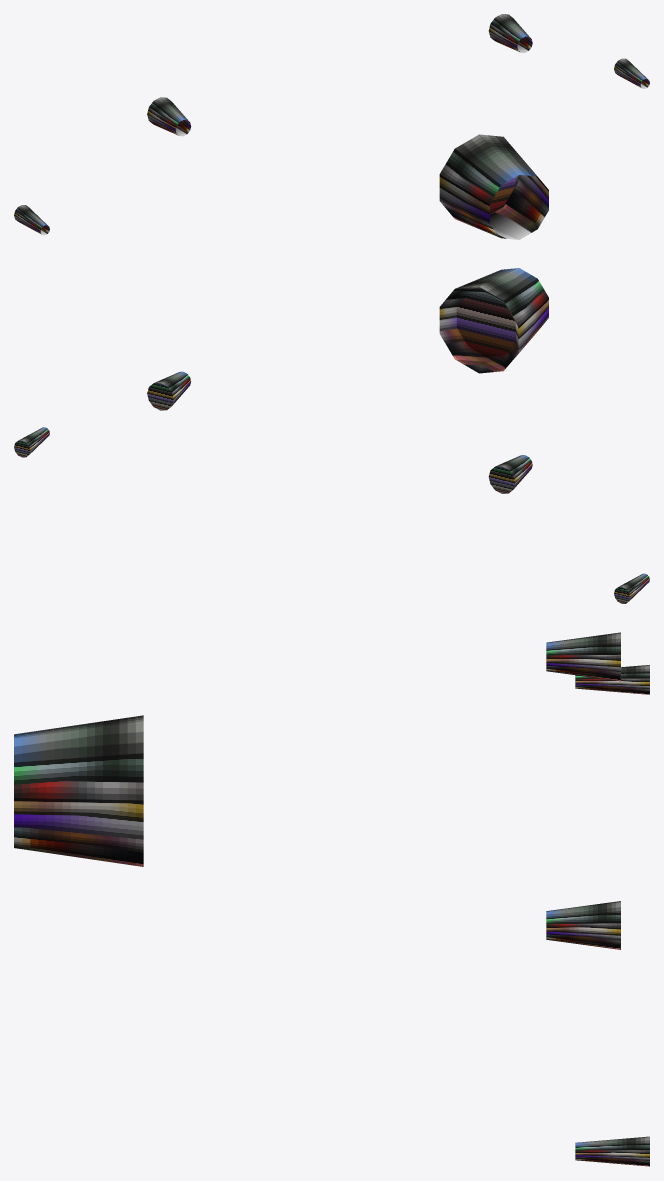
The model's file is Bomber Exhaust.fbx.
3 views of the same model, one above another, from view 1: azimuth 30°, elevation 25°; view 2: azimuth 150°, elevation 25°; view 3: azimuth 270°, elevation 25° (orthographic). The views are drawn at different scales.
Parts seen in each view (by area): view 1: Bomber Rear Exhaust, Bomber Wing Exhaust L, Bomber Wing Exhaust R; view 2: Bomber Rear Exhaust, Bomber Wing Exhaust R, Bomber Wing Exhaust L; view 3: Bomber Rear Exhaust, Bomber Wing Exhaust R, Bomber Wing Exhaust L.
Boxes of the visible parts, <box> form: Bomber Rear Exhaust: <box>439,134,548,239</box>; Bomber Wing Exhaust L: <box>14,97,191,235</box>; Bomber Wing Exhaust R: <box>488,14,649,88</box>; Bomber Rear Exhaust: <box>439,268,548,373</box>; Bomber Wing Exhaust R: <box>14,371,191,457</box>; Bomber Wing Exhaust L: <box>488,455,649,603</box>; Bomber Rear Exhaust: <box>14,715,143,866</box>; Bomber Wing Exhaust R: <box>546,901,649,1166</box>; Bomber Wing Exhaust L: <box>546,632,649,694</box>.
Bounding box in the file's own units: 123 × 68.12 × 24.61.
